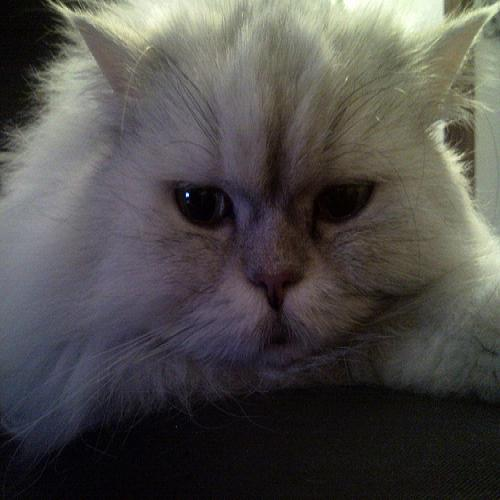persian: (59, 1, 494, 385)
